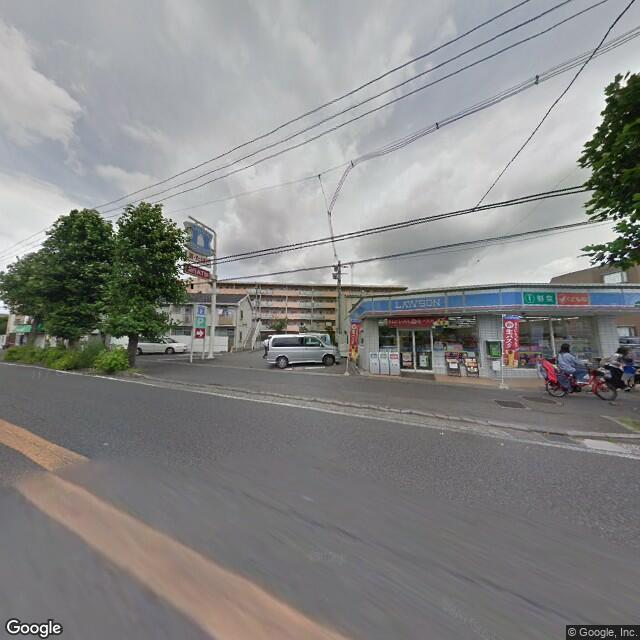lawson: (349, 279, 640, 319), (187, 216, 214, 256)
